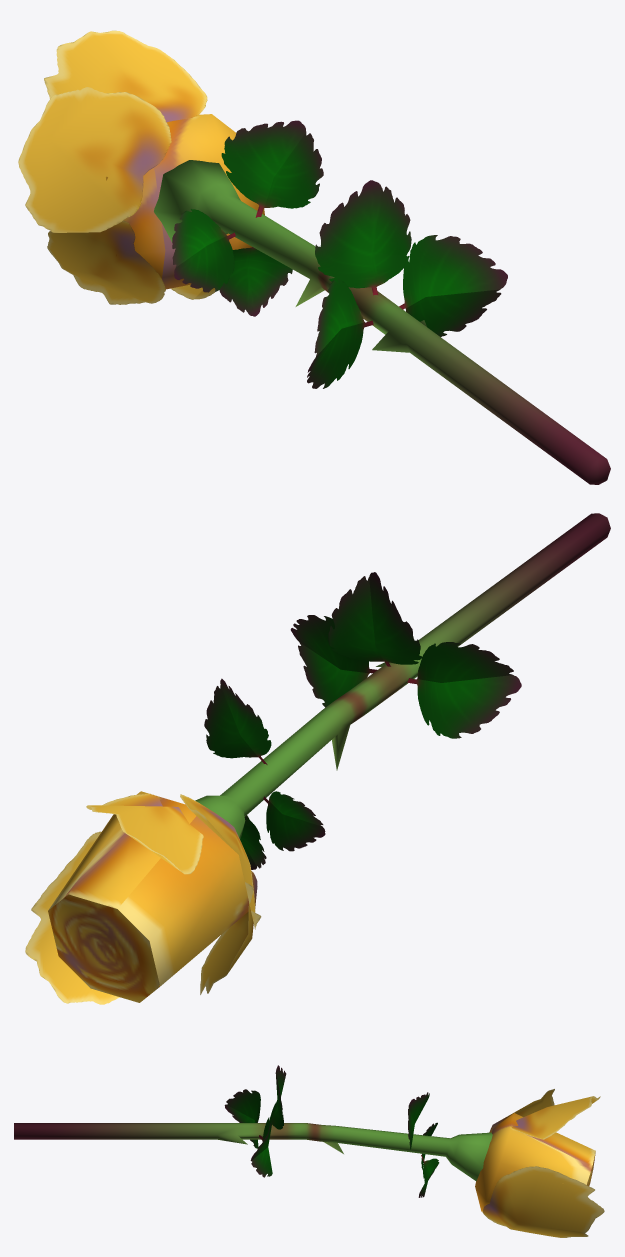
Rendered from SM_Rose_Yellow_Closed.fbx.
The picture shows the model from 3 angles, top to bottom: view 1: azimuth 30°, elevation 25°; view 2: azimuth 150°, elevation 25°; view 3: azimuth 270°, elevation 25°; orthographic projection. The views are drawn at different scales.
Visible parts, largest first — view 1: Rose_Yellow_Closed; view 2: Rose_Yellow_Closed; view 3: Rose_Yellow_Closed.
Boxes of the visible parts, bbox=[...] form: Rose_Yellow_Closed: bbox=[18, 30, 610, 484]; Rose_Yellow_Closed: bbox=[25, 513, 610, 1004]; Rose_Yellow_Closed: bbox=[14, 1065, 604, 1237].
Size of the model in its own units: 35.12 by 42.85 by 129.
